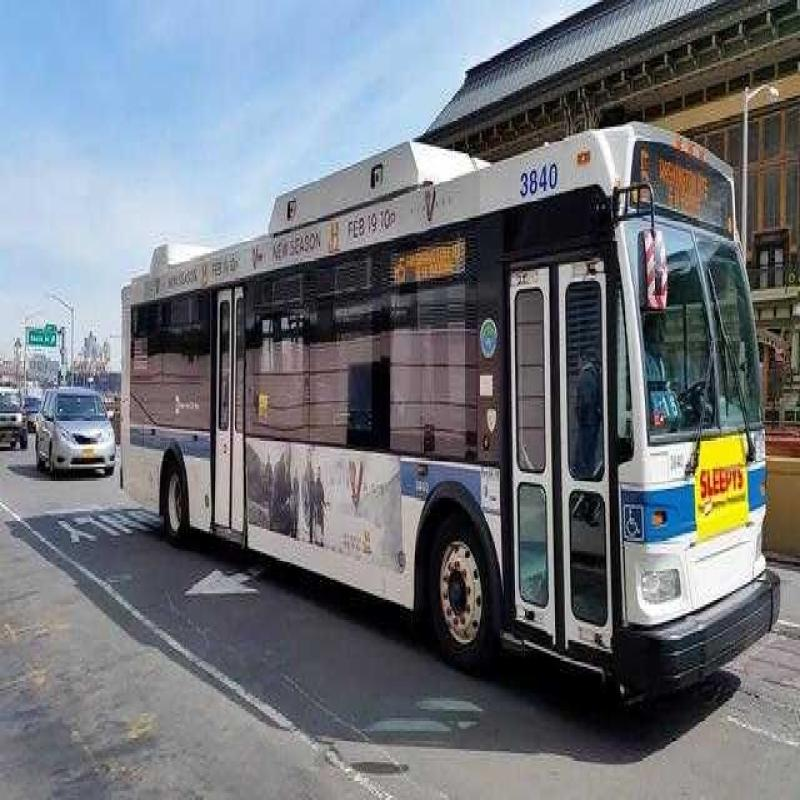bus: (115, 107, 770, 684)
